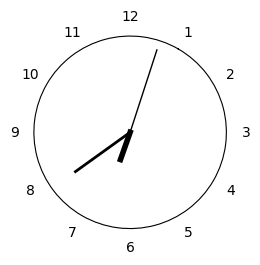12: (121, 8, 139, 23)
circle: (33, 35, 227, 229)
hours: (117, 129, 134, 163)
minutes: (73, 134, 126, 173)
seconds: (130, 49, 158, 130)
